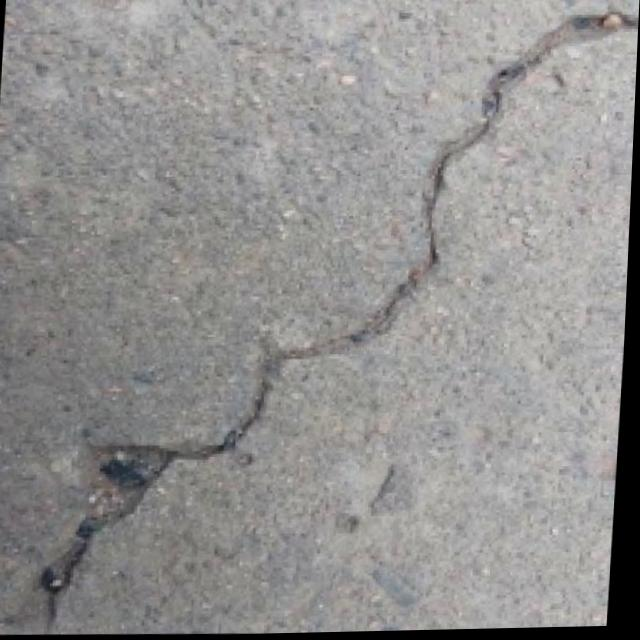Crack: (8, 0, 639, 639)
